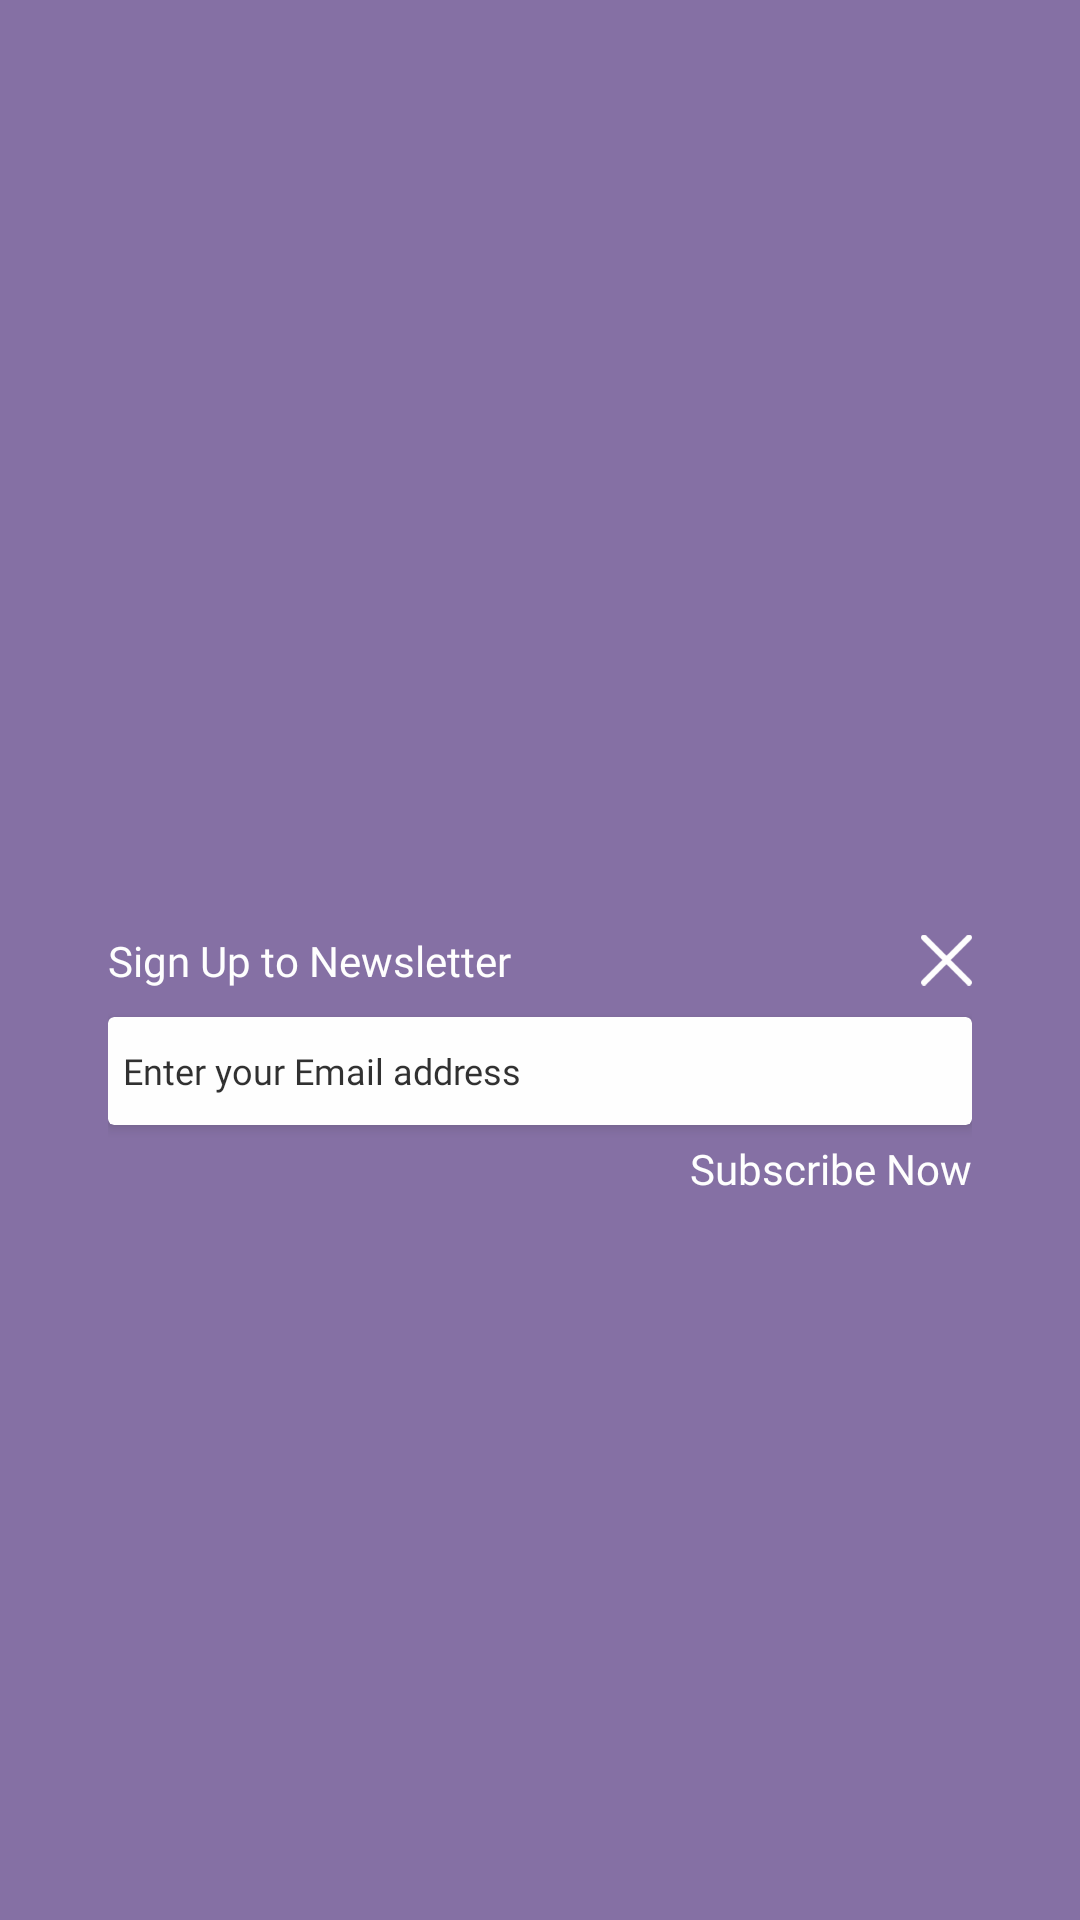

Point at icon controls on the screen. Image size 1080*1920, points as (x=x, y=y).
cross: (x=946, y=960)
